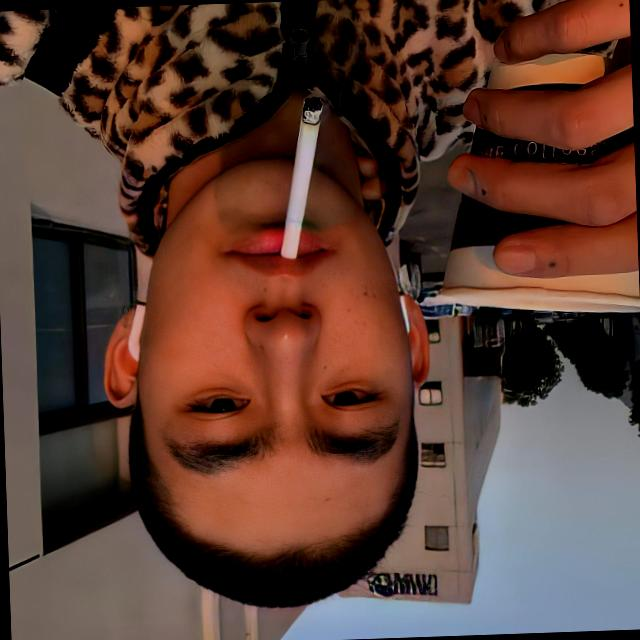cigarette: (248, 72, 349, 278)
